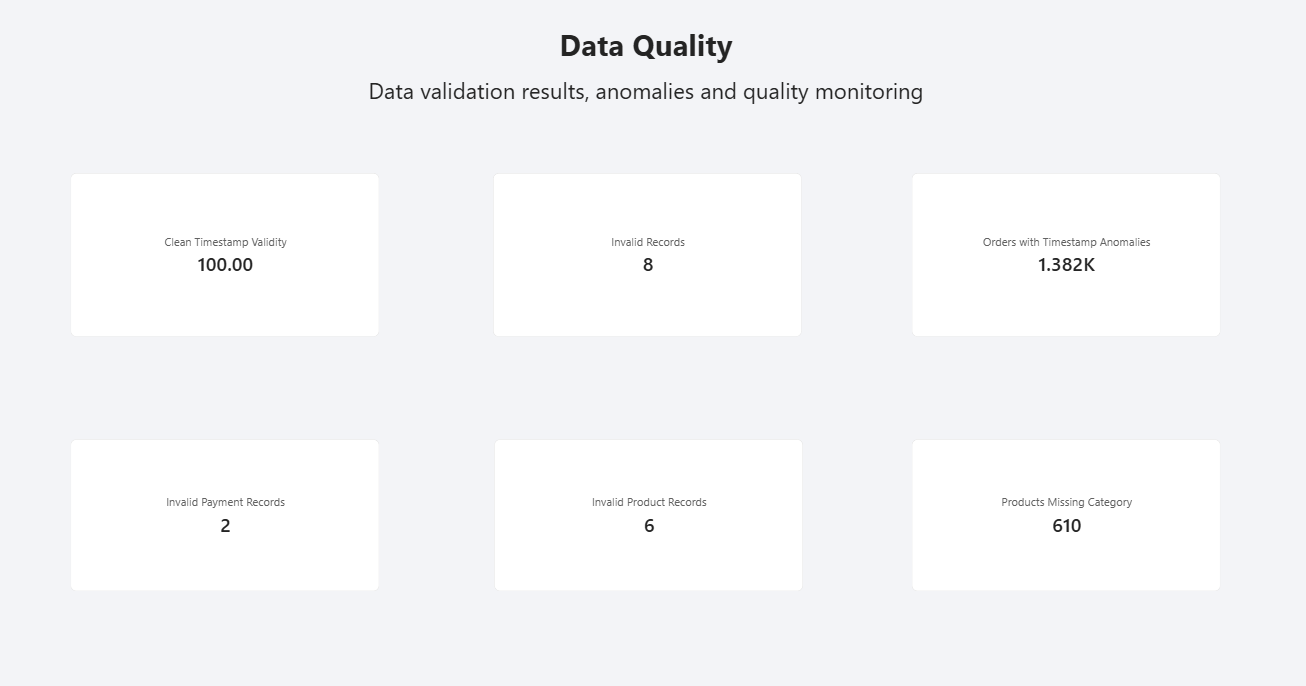

The page's visual inventory and layout, read from the dashboard file:
{"tool":"powerbi","page":{"name":"Data Quality","canvas":[1920,1080],"ordinal":5},"visuals":[{"type":"textbox","box":[0,126.7,1920,66.7],"z":0},{"type":"textbox","box":[0,53.3,1920,73.3],"z":1},{"type":"cardVisual","fields":{"Data":["Avg(Data Quality.valid_order_timestamp_percentage)"]},"box":[127.5,267.5,447.5,237.5],"z":2},{"type":"cardVisual","fields":{"Data":["Sum(Data Quality.total_invalid_records)"]},"box":[737.5,267.5,447.5,237.5],"z":3},{"type":"cardVisual","fields":{"Data":["Sum(Data Quality.orders_with_timestamp_anomalies)"]},"box":[1345,267.5,447.5,237.5],"z":4},{"type":"cardVisual","fields":{"Data":["Sum(Data Quality.products_with_missing_category)"]},"box":[1345,652.5,447.5,220],"z":5},{"type":"cardVisual","fields":{"Data":["Sum(Data Quality.invalid_product_records)"]},"box":[740,652.5,447.5,220],"z":6},{"type":"cardVisual","fields":{"Data":["Sum(Data Quality.invalid_payment_records)"]},"box":[127.5,652.5,447.5,220],"z":7}]}

Visuals, with their boxes on the page's 1920x1080 design canvas (x1, y1, x2, y2). These are canvas units, not pixel positions in the 1306x686 screenshot, which may show the page scaled, cropped or inside an application window:
textbox: (0,127,1920,193)
textbox: (0,53,1920,127)
cardVisual - Avg(Data Quality.valid_order_timestamp_percentage): (128,268,575,505)
cardVisual - Sum(Data Quality.total_invalid_records): (738,268,1185,505)
cardVisual - Sum(Data Quality.orders_with_timestamp_anomalies): (1345,268,1792,505)
cardVisual - Sum(Data Quality.products_with_missing_category): (1345,652,1792,872)
cardVisual - Sum(Data Quality.invalid_product_records): (740,652,1188,872)
cardVisual - Sum(Data Quality.invalid_payment_records): (128,652,575,872)
